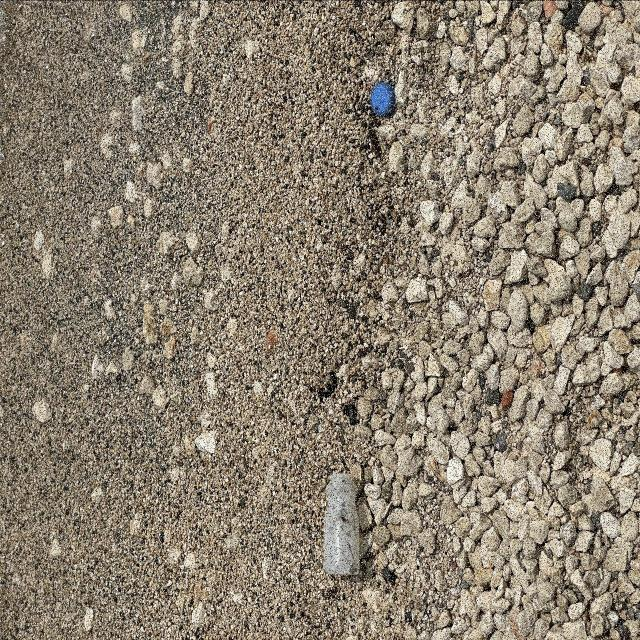plastic_waste: (322, 471, 364, 581), (371, 84, 394, 119)
